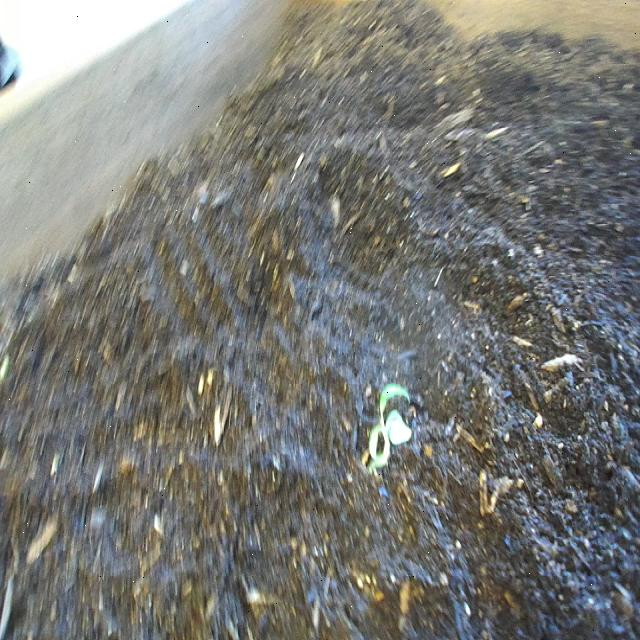Unhealthy: (364, 375, 416, 487)
